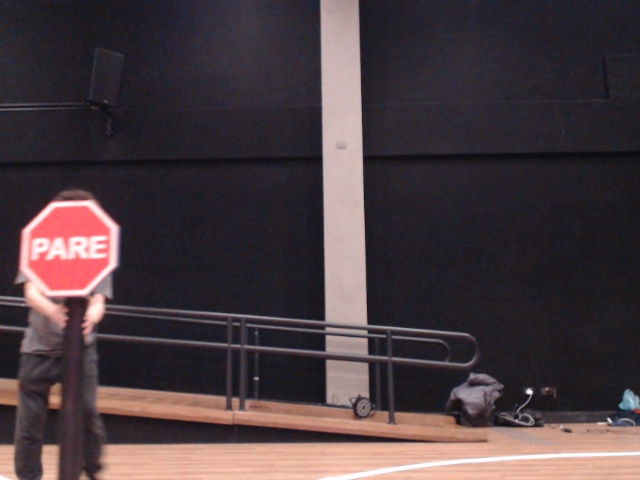SEMAFORO: (4, 185, 153, 322)
